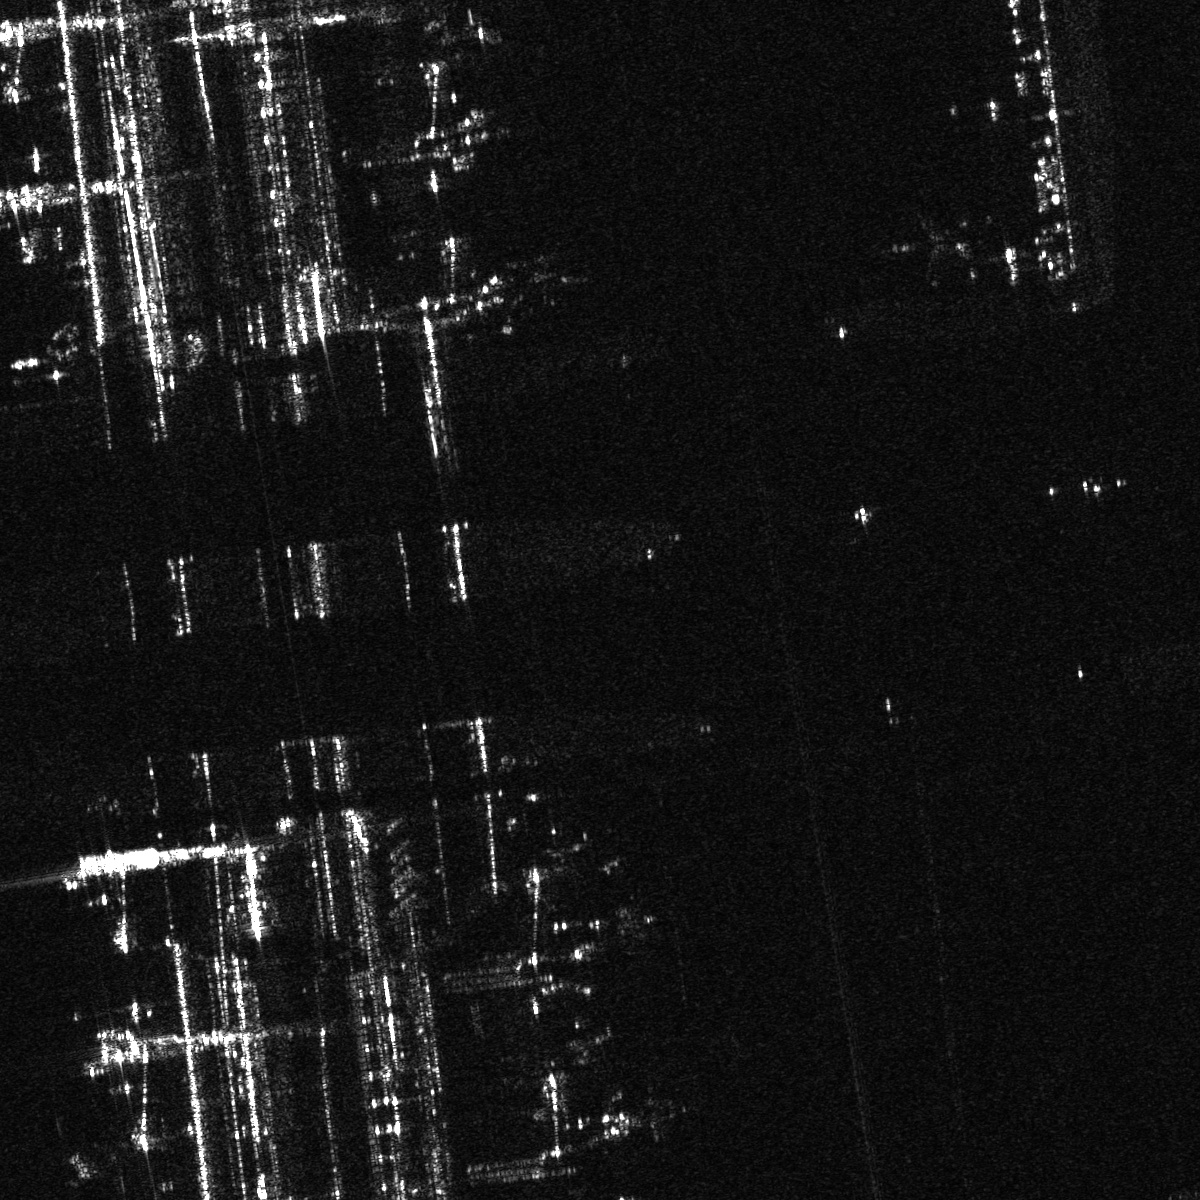Boeing787: (884, 209, 970, 290)
